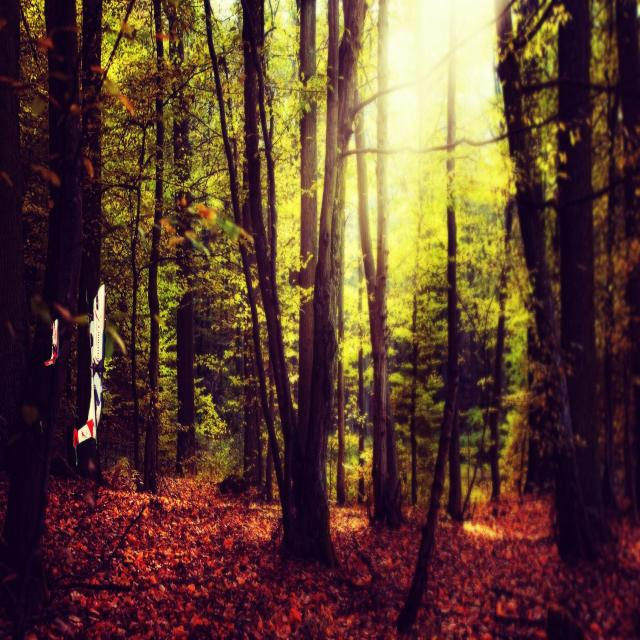airplane: (43, 282, 107, 480)
